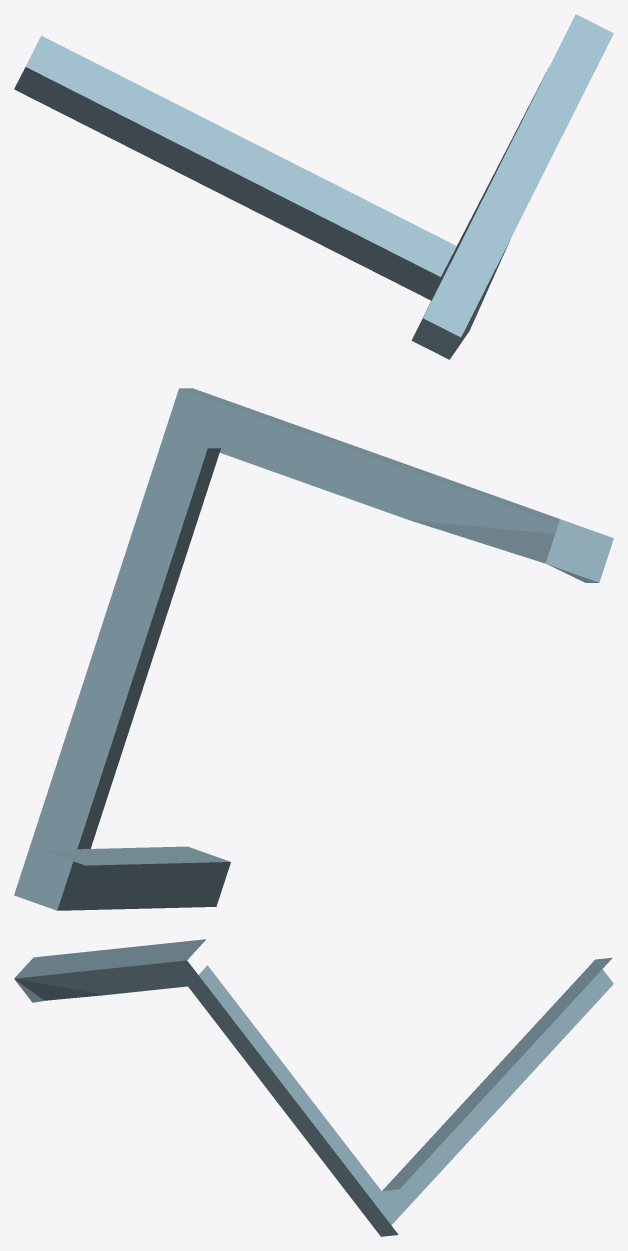
The model's file is triangle.gltf.
The picture shows the model from 3 angles, top to bottom: view 1: azimuth 30°, elevation 25°; view 2: azimuth 150°, elevation 25°; view 3: azimuth 270°, elevation 25°; orthographic projection. The views are drawn at different scales.
Visible parts, largest first — view 1: Box001; view 2: Box001; view 3: Box001.
Part boxes in pixels (box(x1,y1,x2,y2)): Box001: box(14, 14, 613, 359); Box001: box(14, 388, 613, 910); Box001: box(14, 939, 613, 1236).
Bounding box in the file's own units: 4.13 × 4.72 × 8.7.
